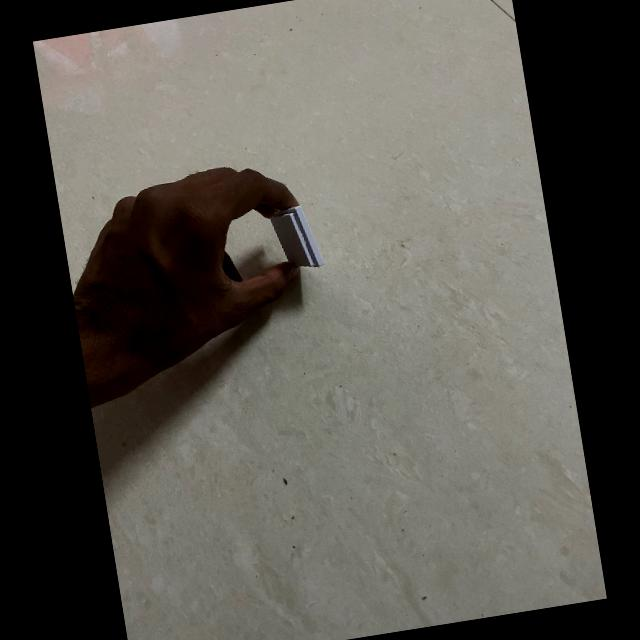RASPBERY PI CAM ENCLOSURE: (269, 203, 325, 274)
